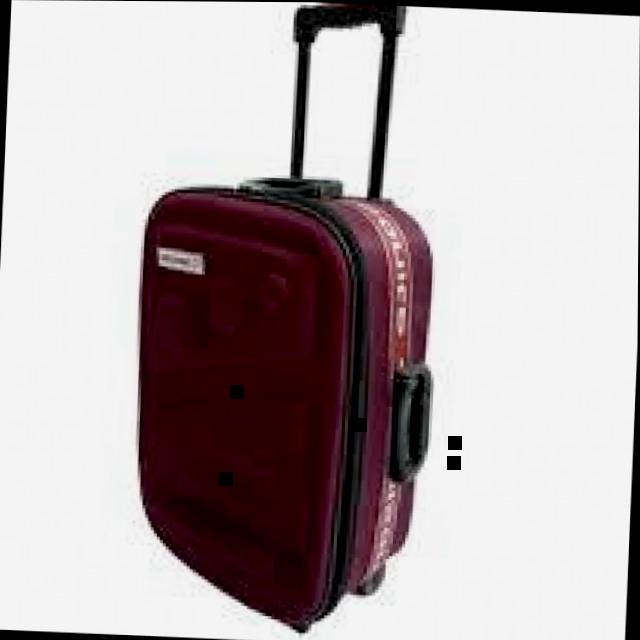luggage: (118, 162, 446, 638)
